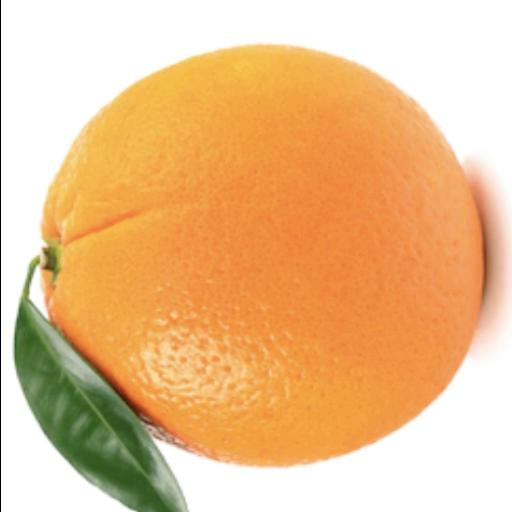orange: (42, 46, 482, 466)
